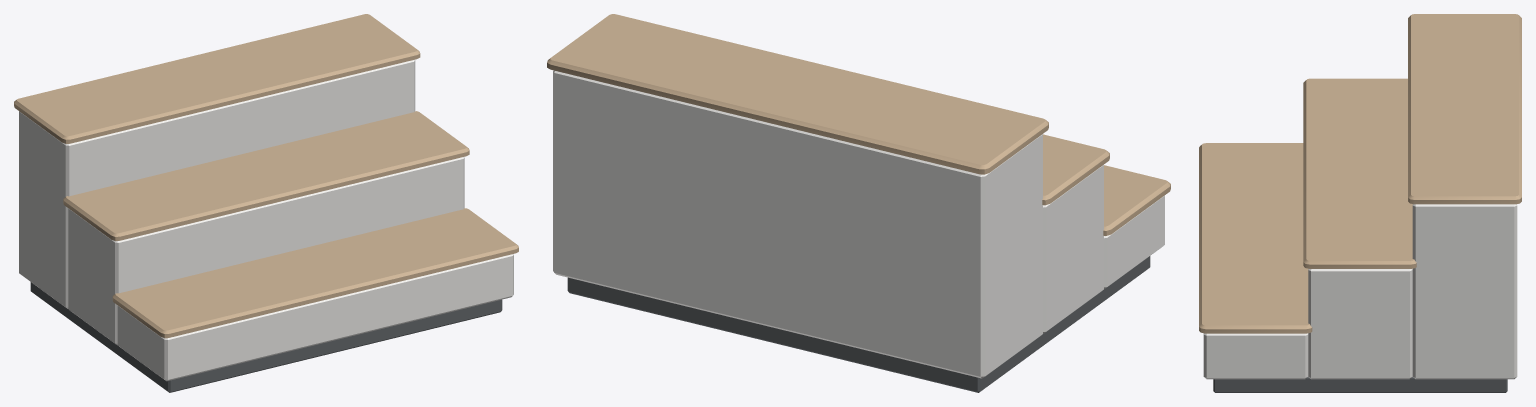
3 views of the same model, side by side, from view 1: azimuth 30°, elevation 25°; view 2: azimuth 150°, elevation 25°; view 3: azimuth 270°, elevation 25° (orthographic). The views are drawn at different scales.
Visible parts, largest first — view 1: stepped-display-riser; view 2: stepped-display-riser; view 3: stepped-display-riser.
Part boxes in pixels (bbox=[...]): stepped-display-riser: bbox=[14, 14, 518, 392]; stepped-display-riser: bbox=[547, 14, 1170, 392]; stepped-display-riser: bbox=[1199, 14, 1521, 392].
Bounding box in the file's own units: 0.92 × 0.47 × 0.68.
